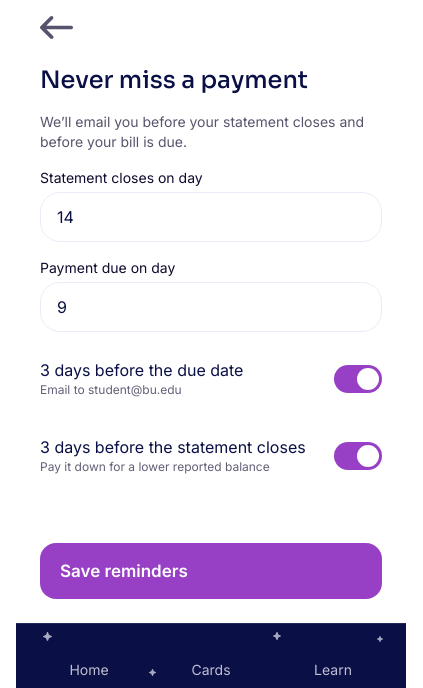
PaymentReminderSetup › shows the API's reason for a card that is not approved
Click the button "Save reminders": click(124, 571) x1=40 y1=543 x2=382 y2=599
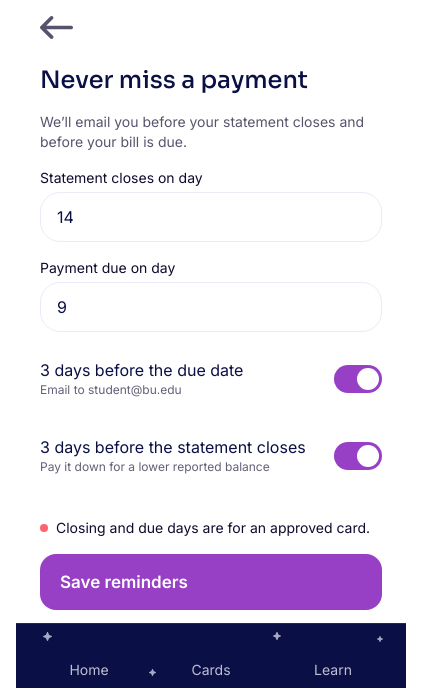
Check: the message reads "Closing and due days are for an approved card.", box x1=56 y1=519 x2=370 y2=536
